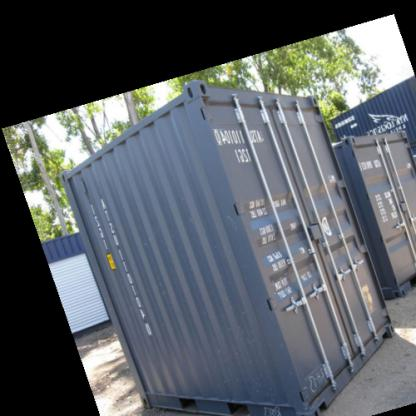Damage: (306, 364, 327, 400), (223, 208, 245, 237)
